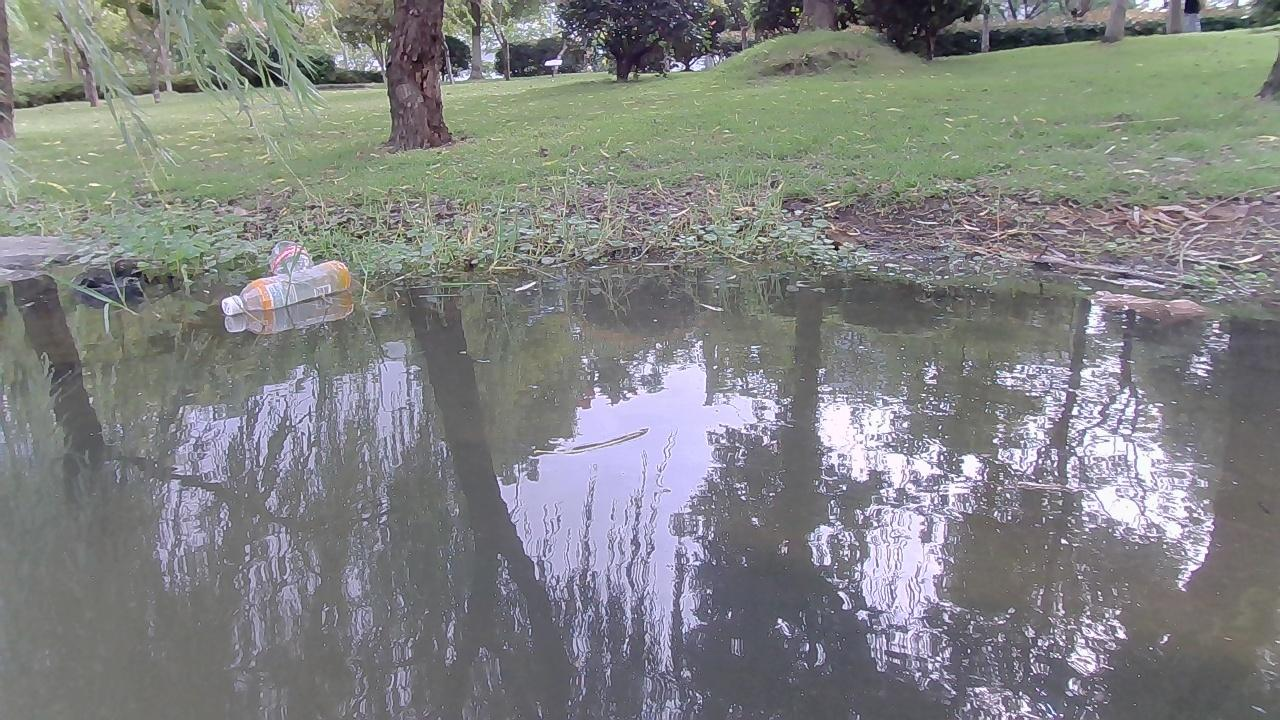bottle: (223, 261, 356, 317), (272, 237, 317, 276)
